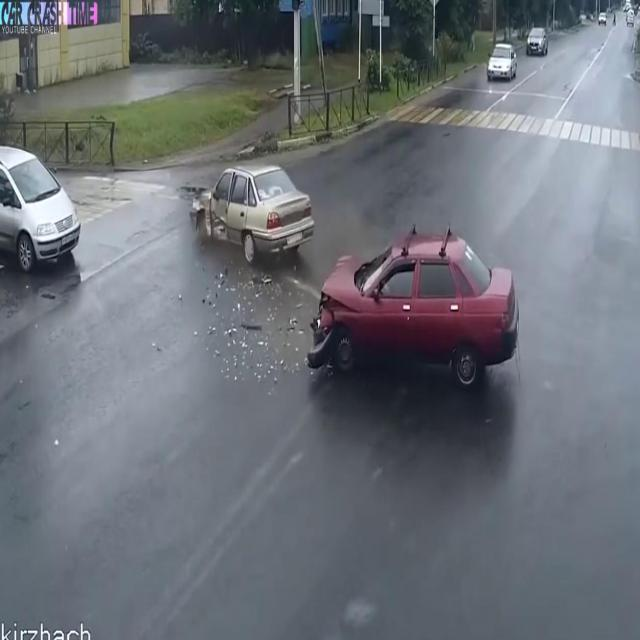accident: (179, 147, 531, 413)
